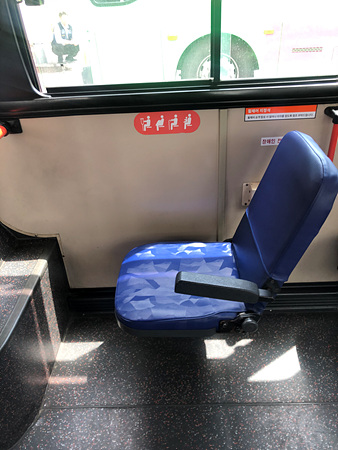seat: (118, 133, 335, 339)
